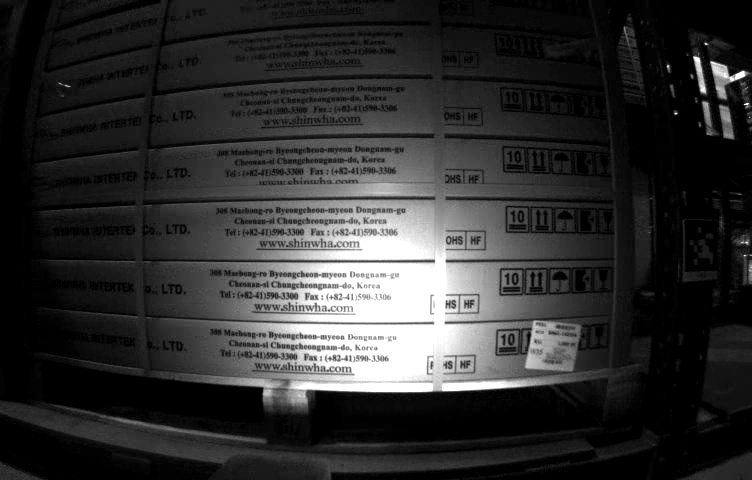True Barcode: (526, 316, 583, 373)
